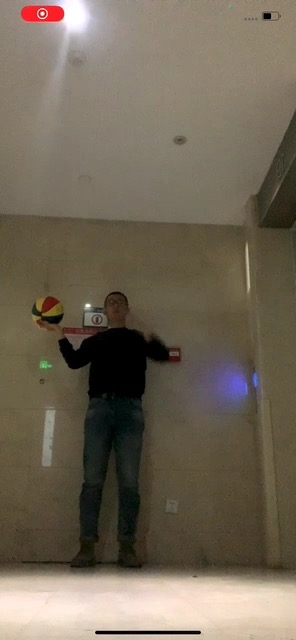ball: (32, 294, 65, 328)
